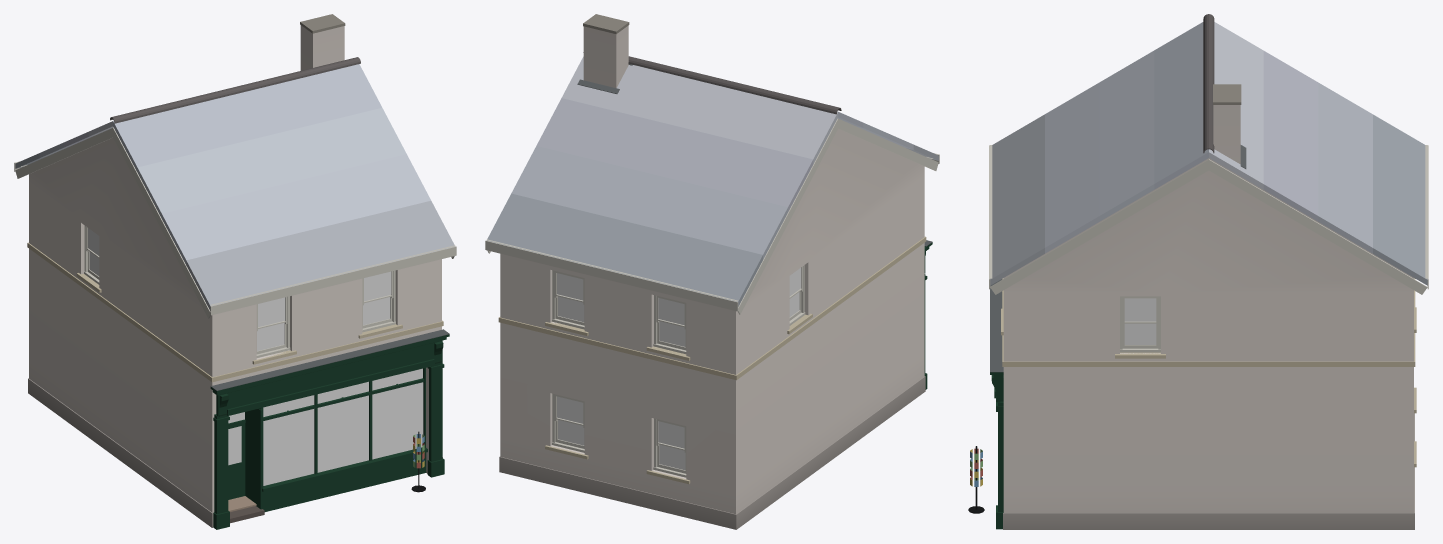
Rendered from town_shop_a_lod2.glb.
3 renders of one model, left to right at view 1: azimuth 30°, elevation 25°; view 2: azimuth 150°, elevation 25°; view 3: azimuth 270°, elevation 25°, orthographic. The views are drawn at different scales.
Visible parts, largest first — view 1: body; view 2: body; view 3: body, card_stand.
Part boxes in pixels (<box>): body: <box>14,14,456,529</box>; body: <box>485,14,939,529</box>; body: <box>989,14,1428,529</box>; card_stand: <box>968,446,984,513</box>.
Size of what is drawn, in the model's own units: 6.98 by 10.31 by 10.1.
